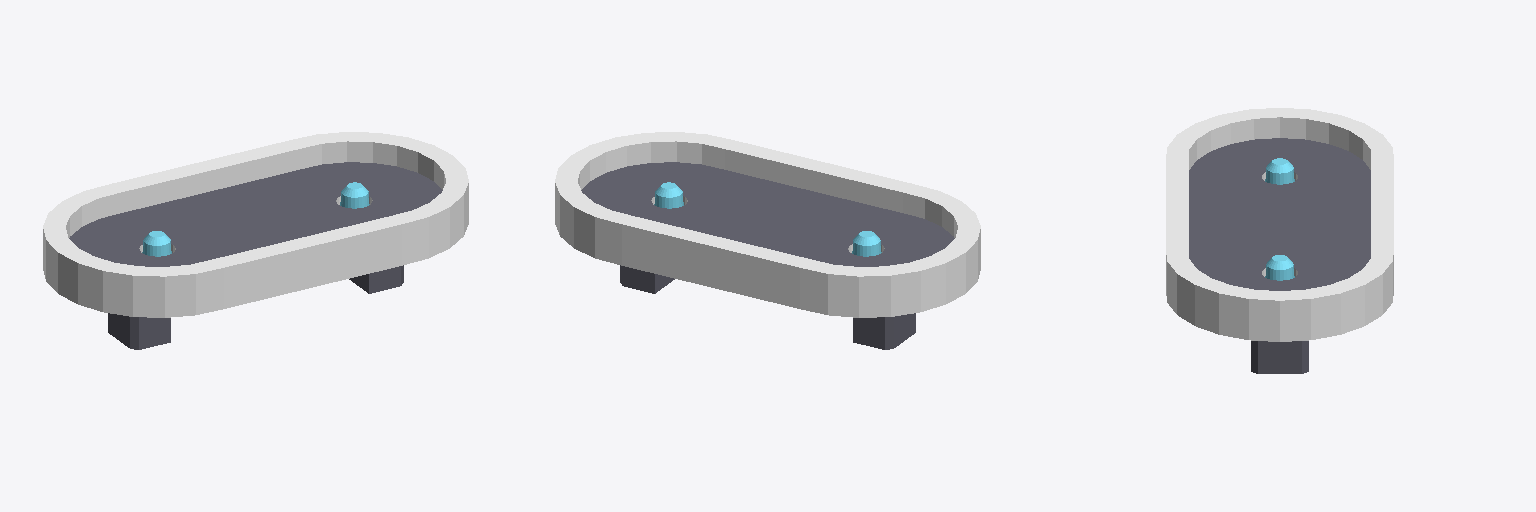
The model's file is mapTable.obj.
3 views of the same model, side by side, from view 1: azimuth 30°, elevation 25°; view 2: azimuth 150°, elevation 25°; view 3: azimuth 270°, elevation 25° (orthographic).
Size of the model in its own units: 2 by 0.5 by 1.